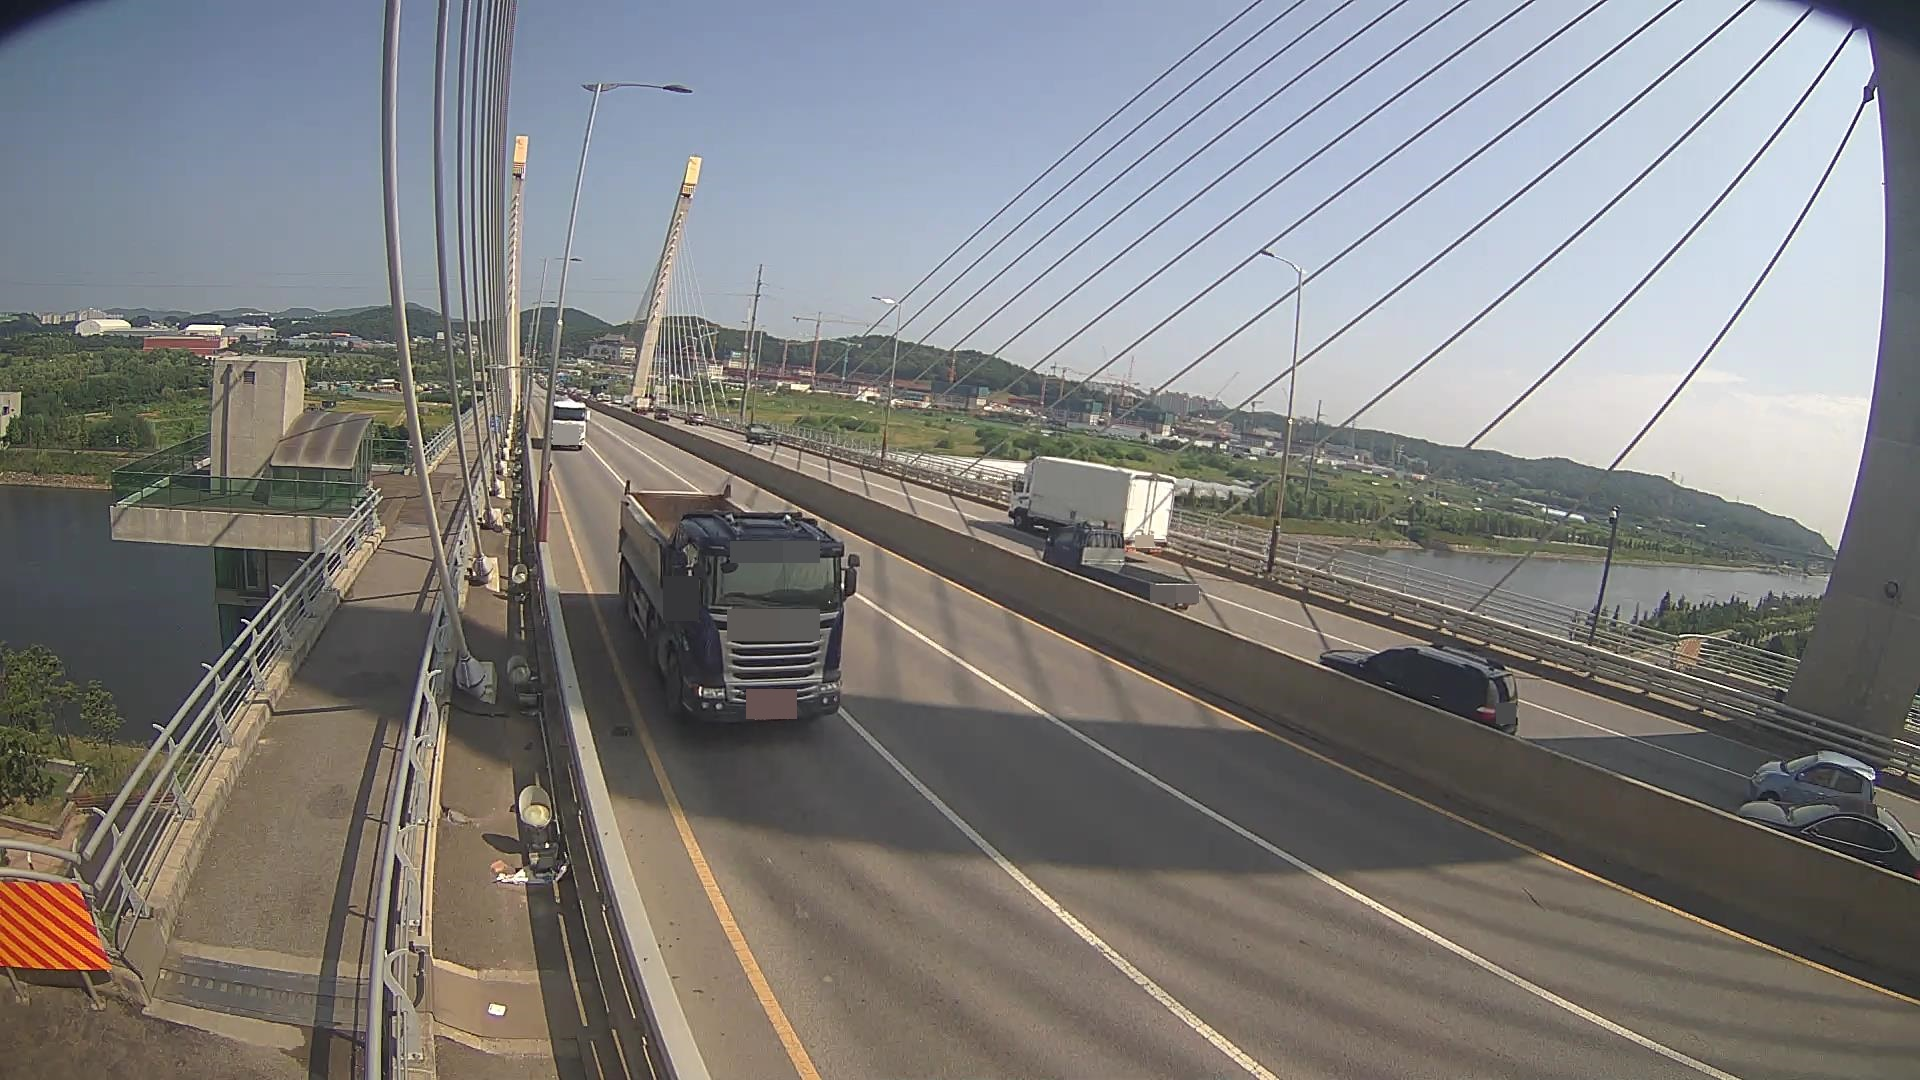정상차량: (618, 480, 861, 724)
